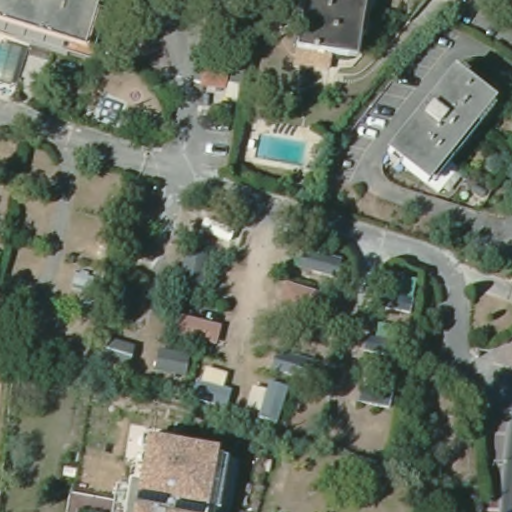pool: (255, 132, 309, 167)
